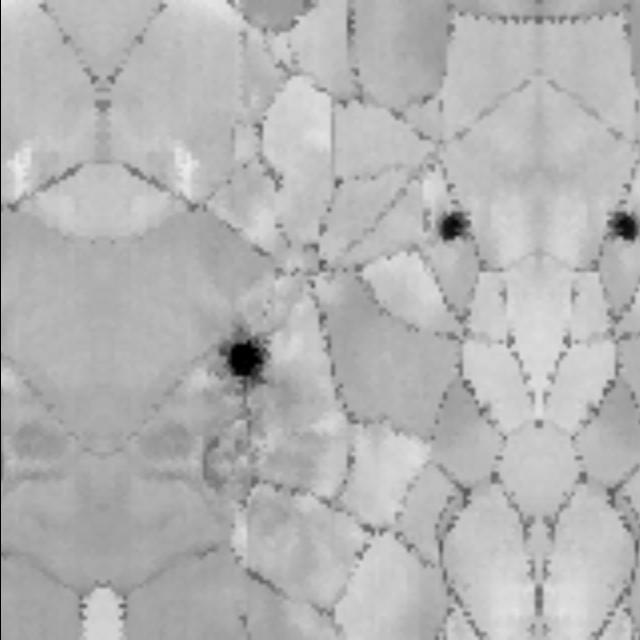good_void: (187, 425, 267, 517), (213, 323, 281, 387), (424, 204, 476, 250), (600, 204, 640, 249), (439, 483, 473, 534), (603, 483, 637, 534)
